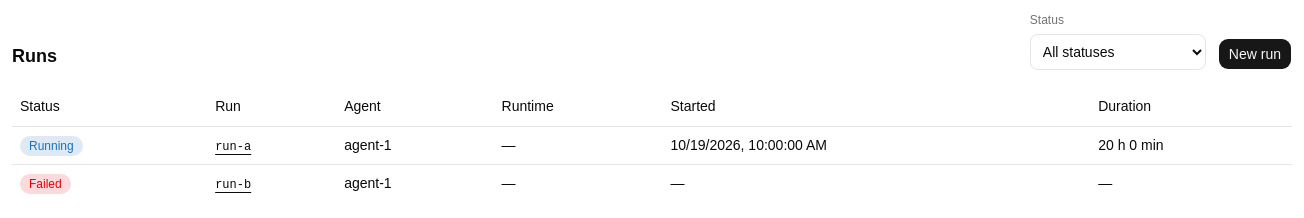
Test case: RunsScreen › asks the service for the chosen status and shows only those runs
Expected: the table named "Runs" is shown, top-left (12, 86), bottom-right (1292, 202)
Select "Failed" in the dropdown labelled "Status" at (1118, 52), box top-left (1030, 34), bottom-right (1206, 70)
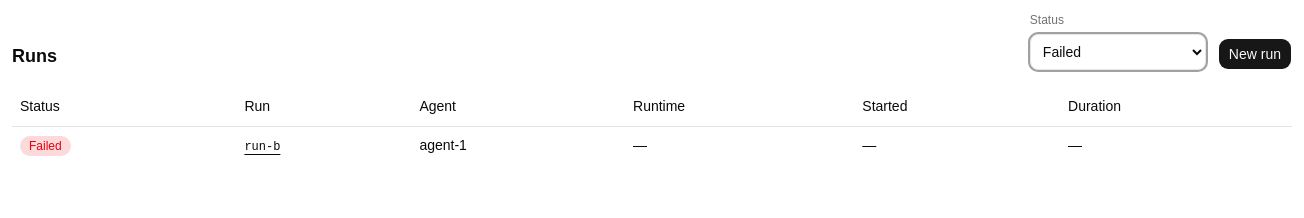
Expected: the link "run-b" is shown, top-left (244, 140), bottom-right (280, 154)
Now the link "run-a" is gone
